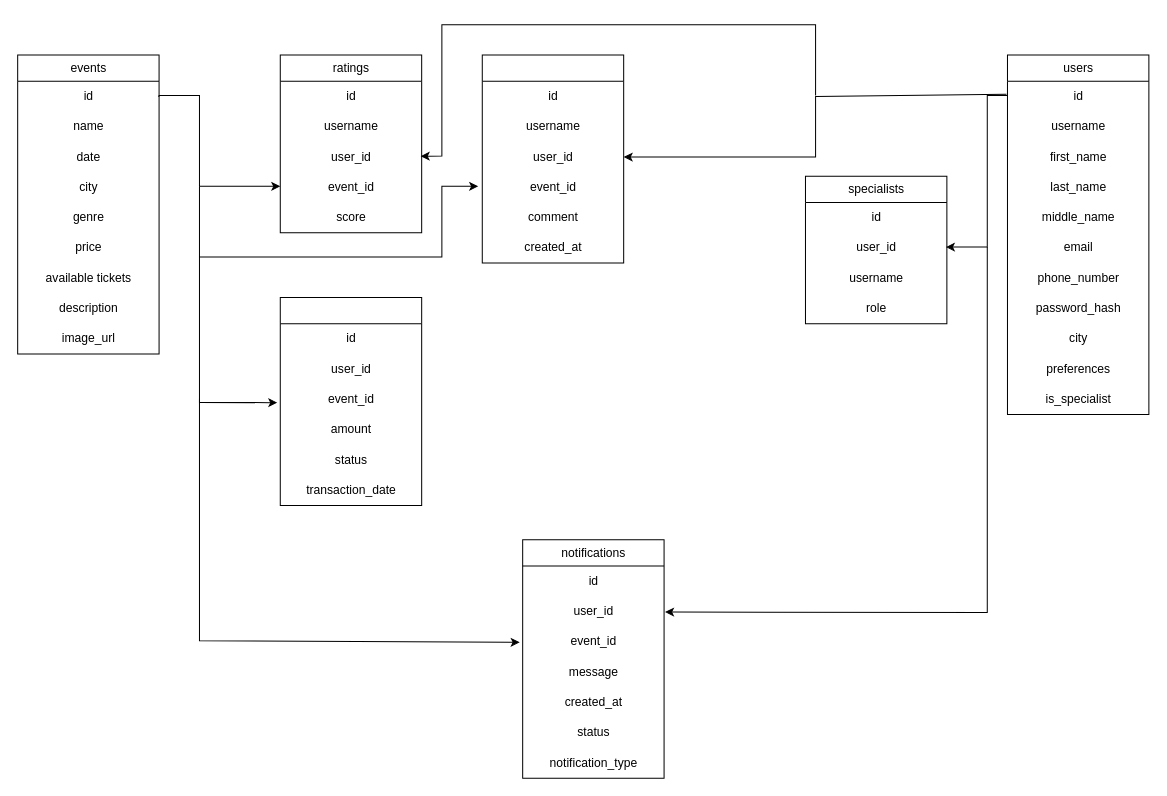
Image size: 1167x796. Some labels were removed from this diagram. The box of each missing label's shape, as (x1, y1, x2, y2) in pixels:
reviews: (481, 54, 624, 263)
transactions: (279, 296, 422, 506)
